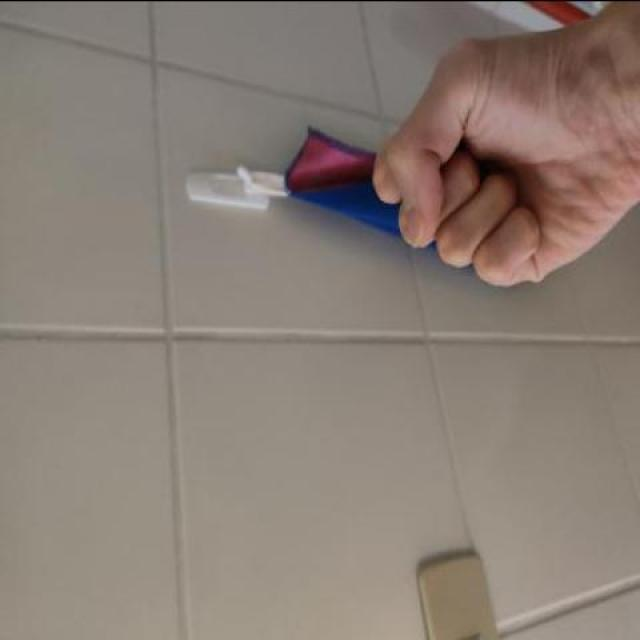Closed Hand: (350, 0, 640, 324)
